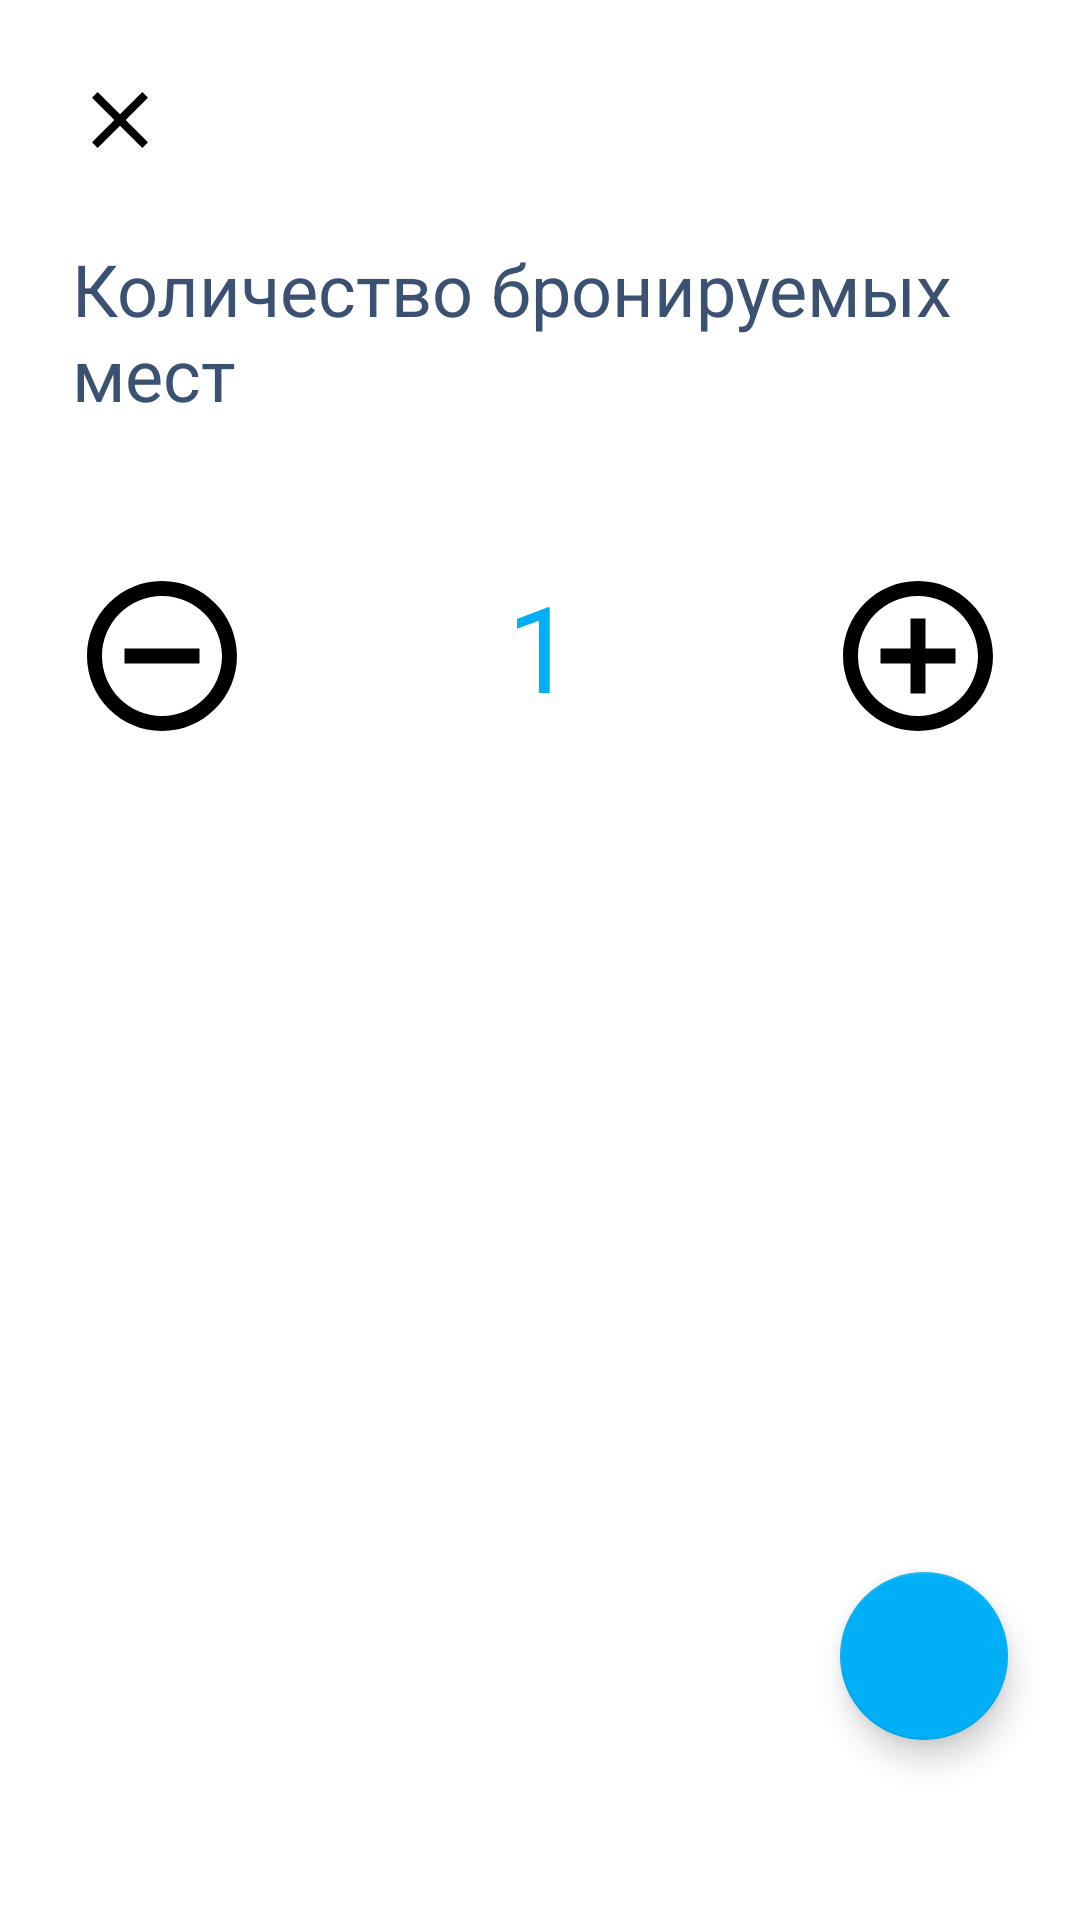

Icons on this 1080x1920 Android screen, each with its box as (x1, y1, x2, y2):
clear: (92, 92, 148, 148)
plus: (843, 581, 993, 731)
remove: (87, 581, 237, 731)
